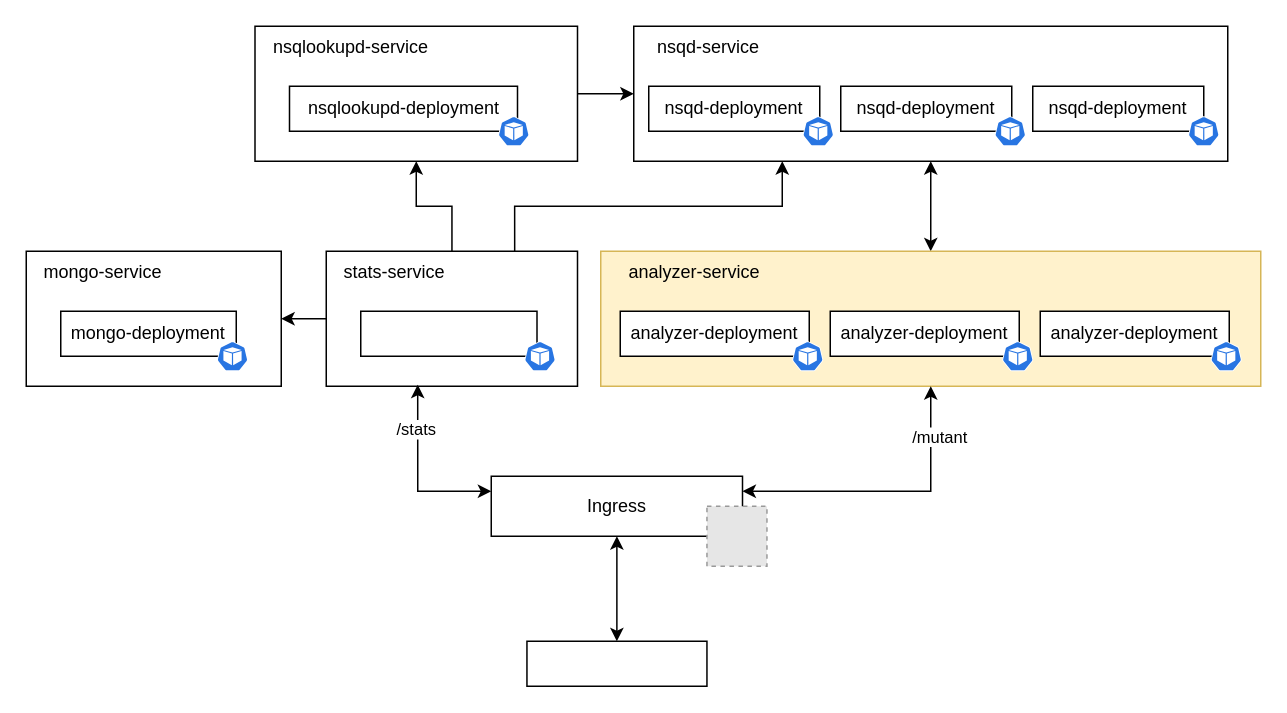
Some shapes in this 1287 by 713 pixel diagram are drawn without their labels. Grey dashed boxes stand in for pictures. Here are the shapes that lost their labels. From the top down, the centre of each, then its label:
At point 448,333: "stats-deployment".
At point 616,663: "User".
